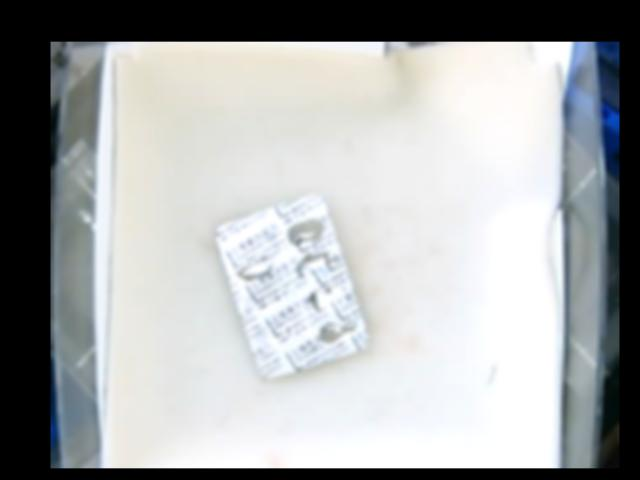Medicine: (212, 194, 367, 370)
